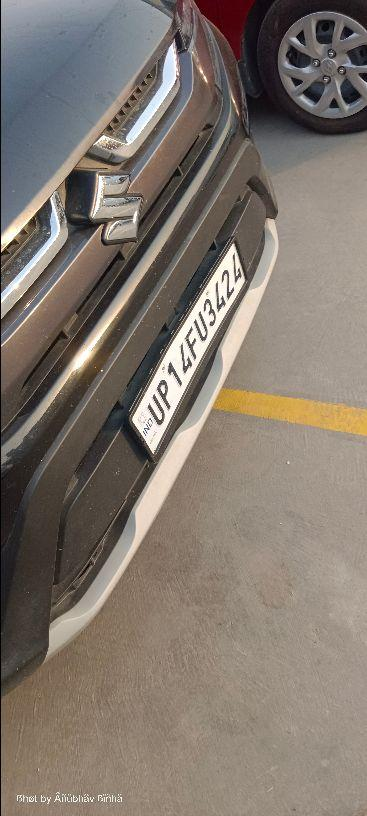license_plate: (124, 235, 250, 463)
